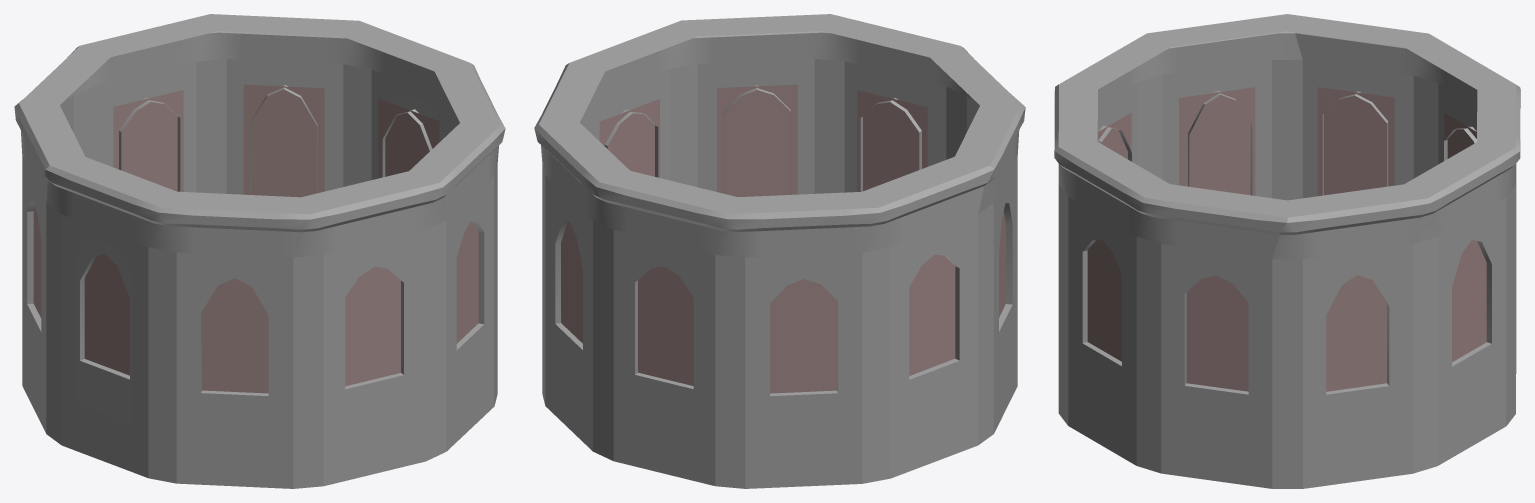
File: ARCH_windows_MB_GEO.fbx
3 views of the same model, side by side, from view 1: azimuth 30°, elevation 25°; view 2: azimuth 150°, elevation 25°; view 3: azimuth 270°, elevation 25° (orthographic).
Visible parts, largest first — view 1: pPlane8; view 2: pPlane8; view 3: pPlane8.
Part boxes in pixels (x1,y1,x2,y2): pPlane8: (14,14,505,488); pPlane8: (534,14,1025,488); pPlane8: (1054,14,1520,488).
Bounding box in the file's own units: 560 × 344 × 532.
